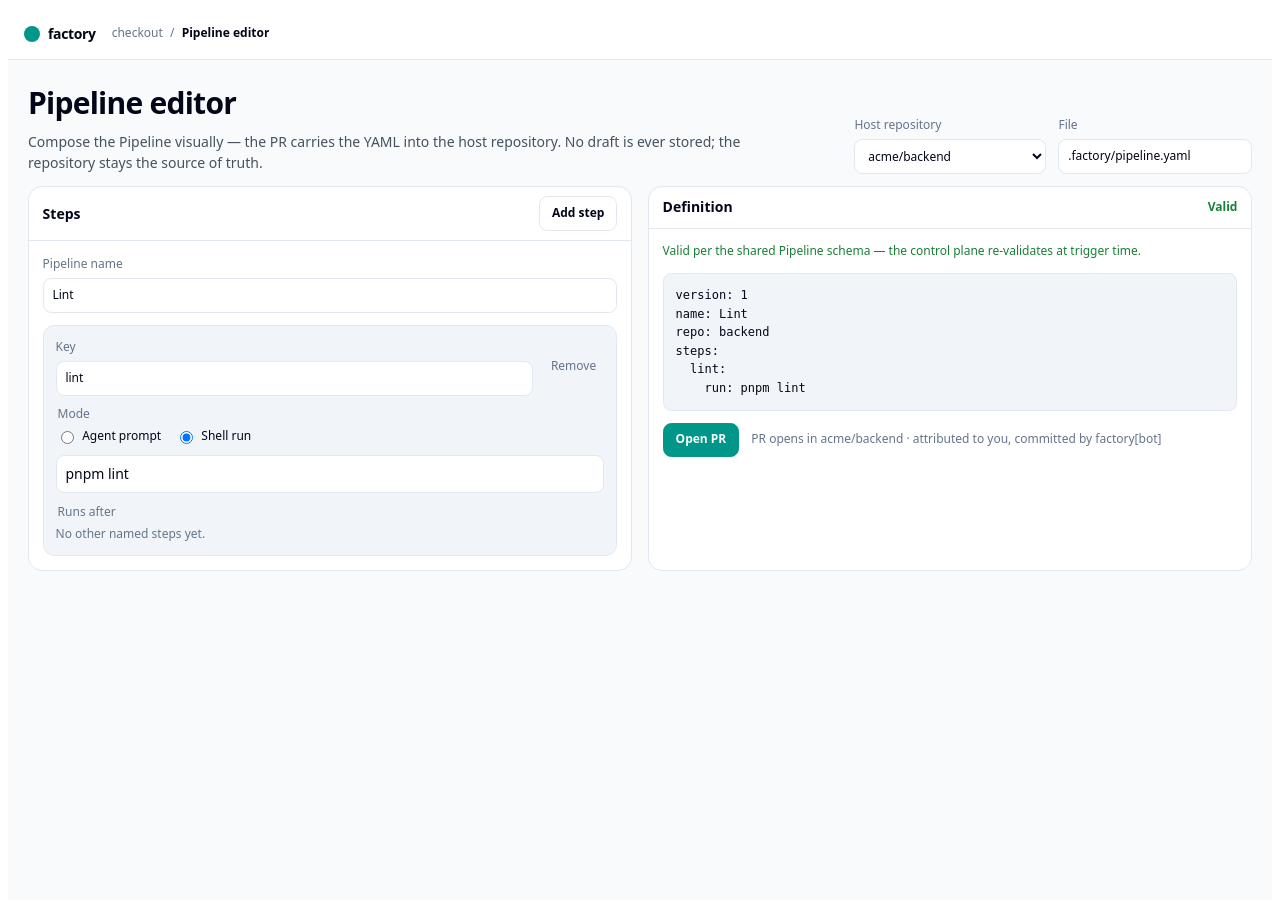
PipelineEditor › gives immediate validation feedback from the shared schema while the user composes
Expected: the dropdown labelled "Host repository" is shown, left=854, top=140, right=1046, bottom=174
Step 1. Click the button "Add step" → click(578, 214), box left=539, top=196, right=618, bottom=231
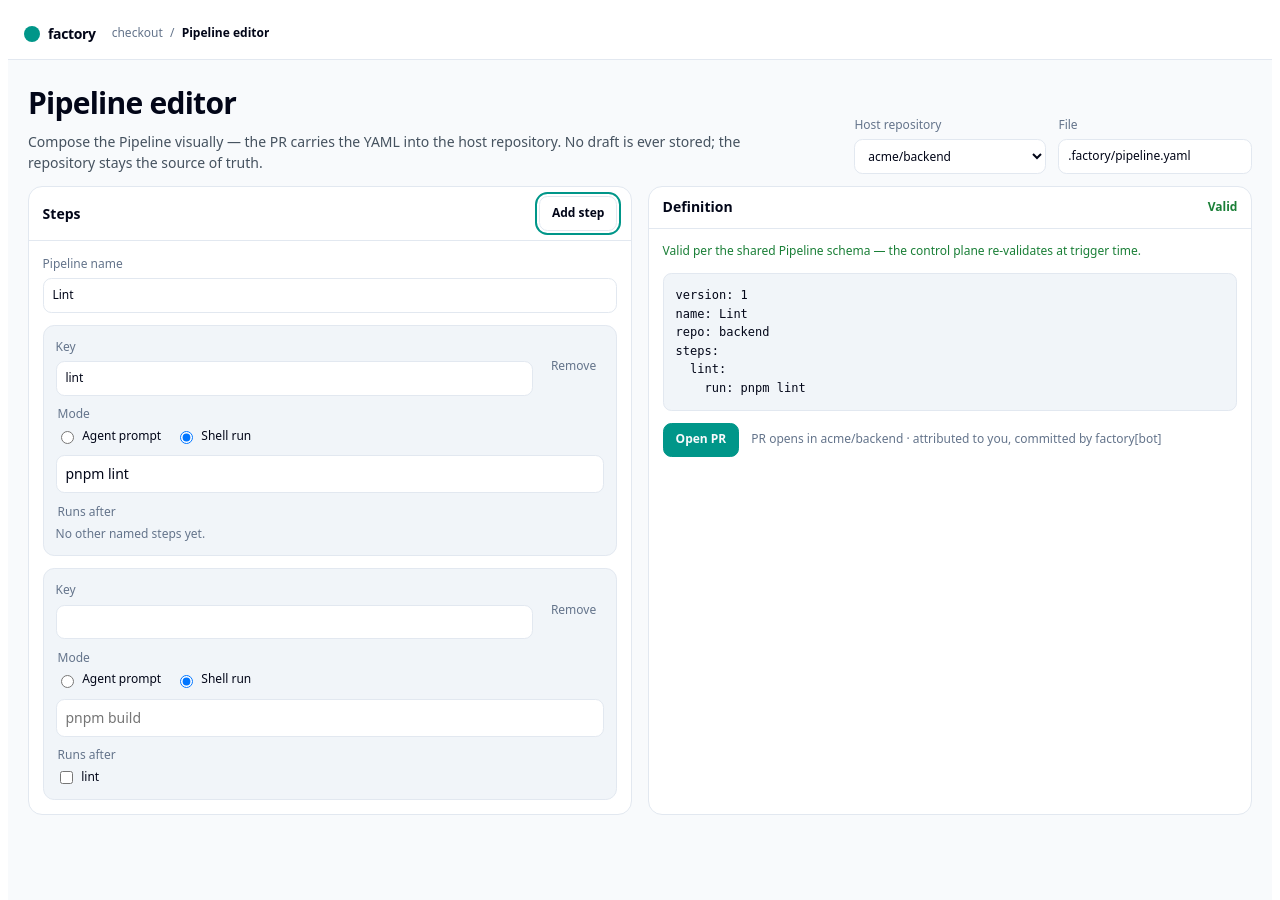
Step 2. Type "test" into the field named "step 2 key" → (294, 622), box left=56, top=605, right=533, bottom=639
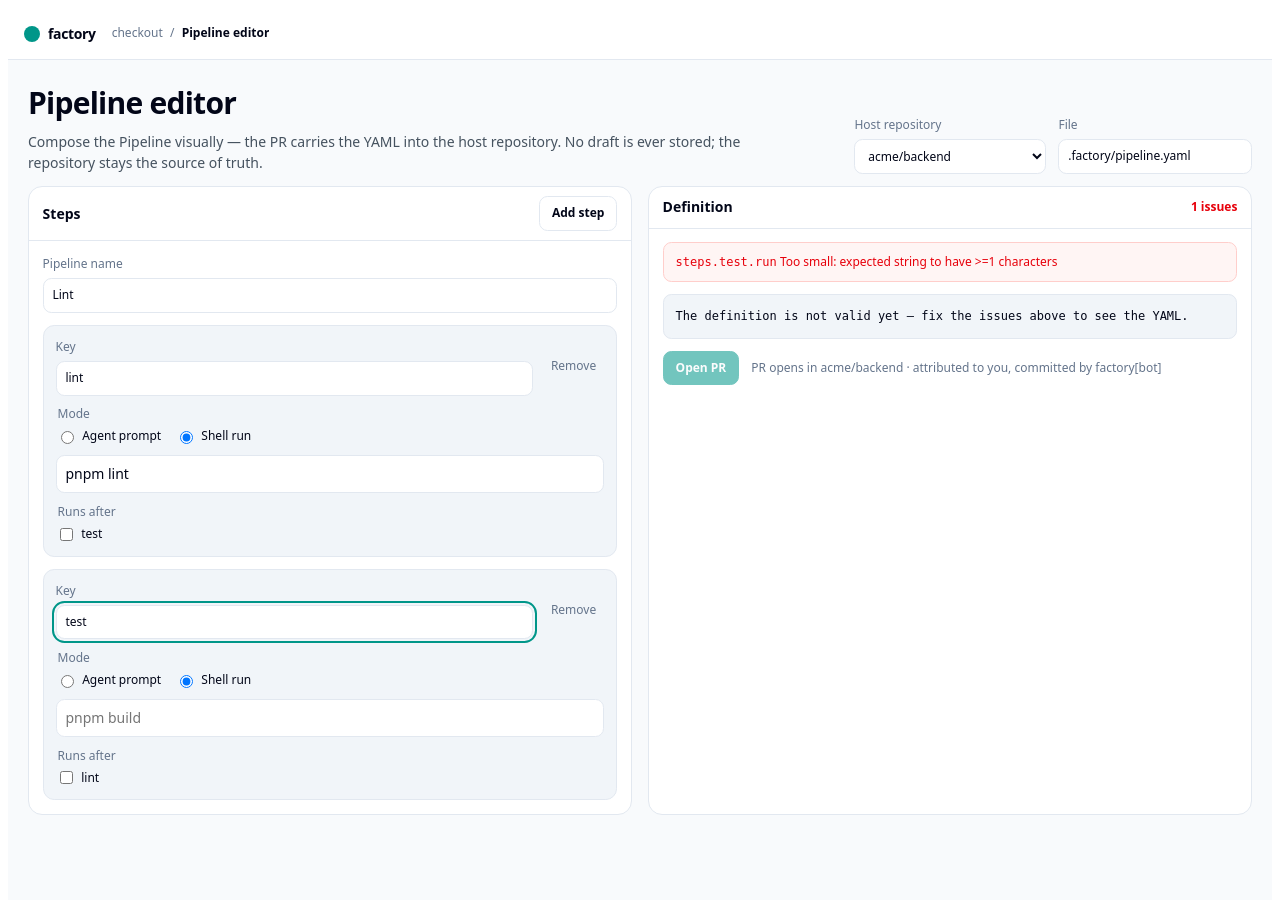
Step 3. Type "pnpm test" into the field named "step 2 run" → (330, 718), box left=56, top=699, right=604, bottom=737
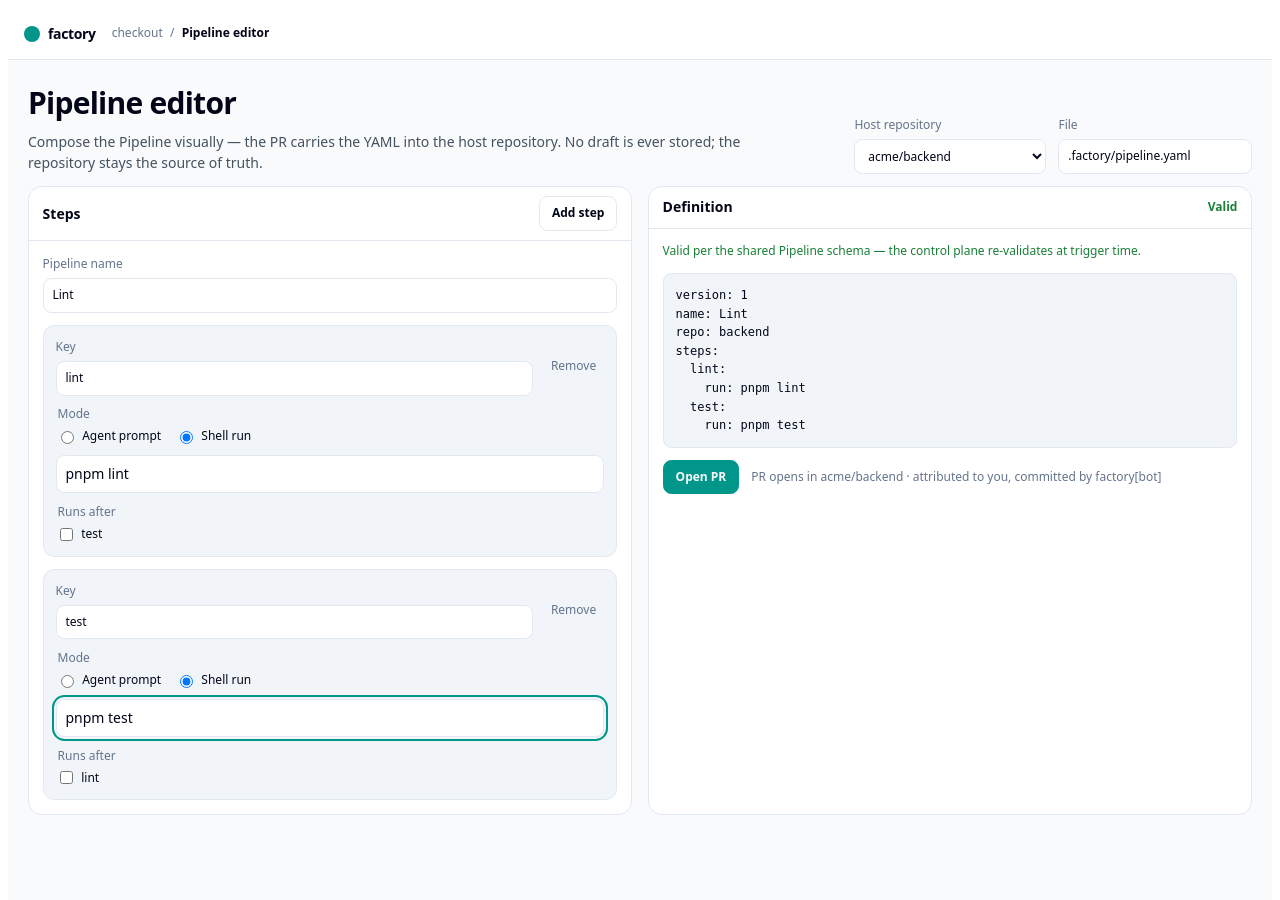
Step 4. Click the checkbox labelled "lint" → click(66, 778), box left=60, top=771, right=73, bottom=784
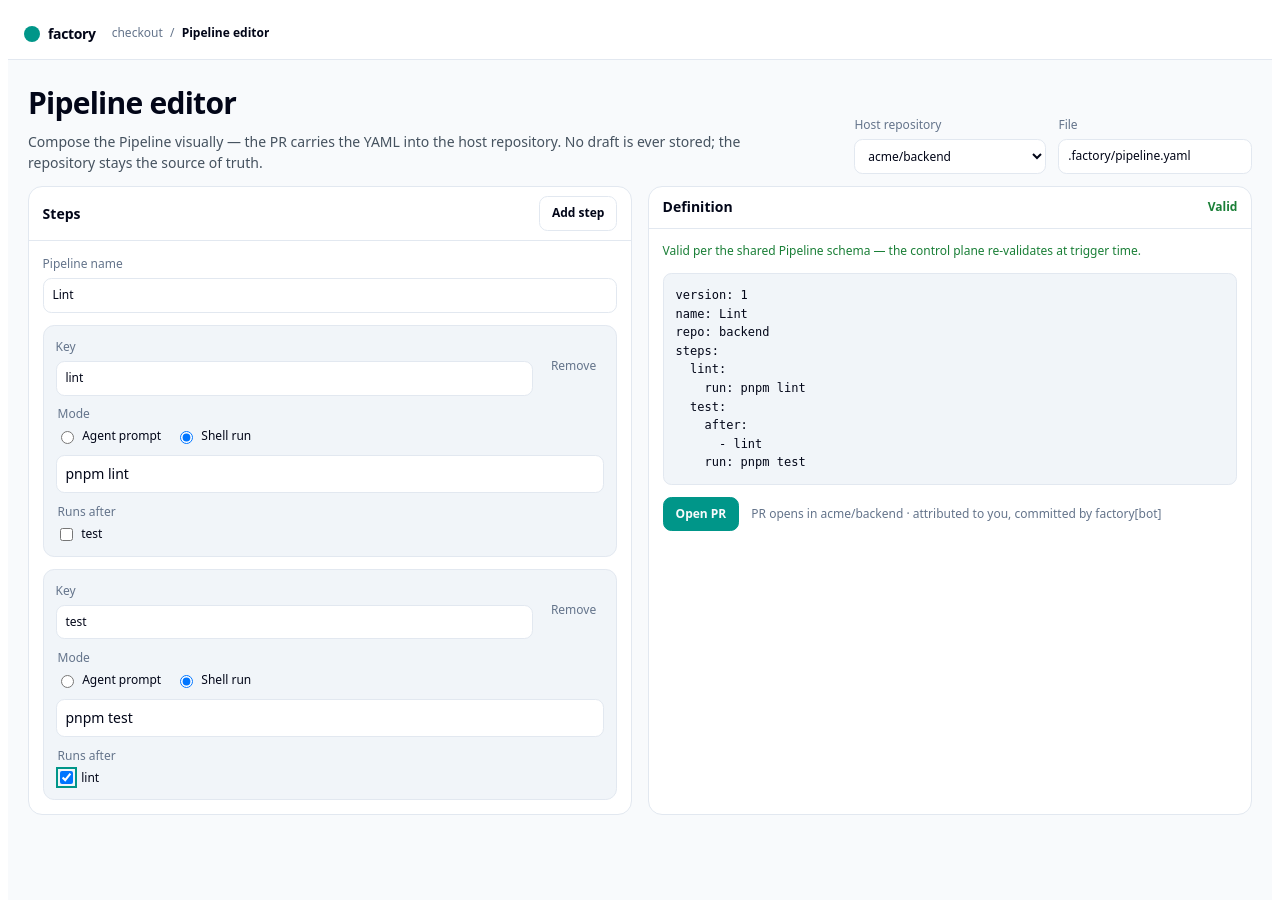
Expected: the text "Valid" is shown, left=1208, top=198, right=1237, bottom=217
Expected: the text with test id "yaml-preview" shows "run: pnpm test", left=676, top=288, right=806, bottom=469
Expected: the text with test id "yaml-preview" shows "after:", left=676, top=288, right=806, bottom=469
Step 5. Clear the field named "step 2 run" → (330, 718), box left=56, top=699, right=604, bottom=737
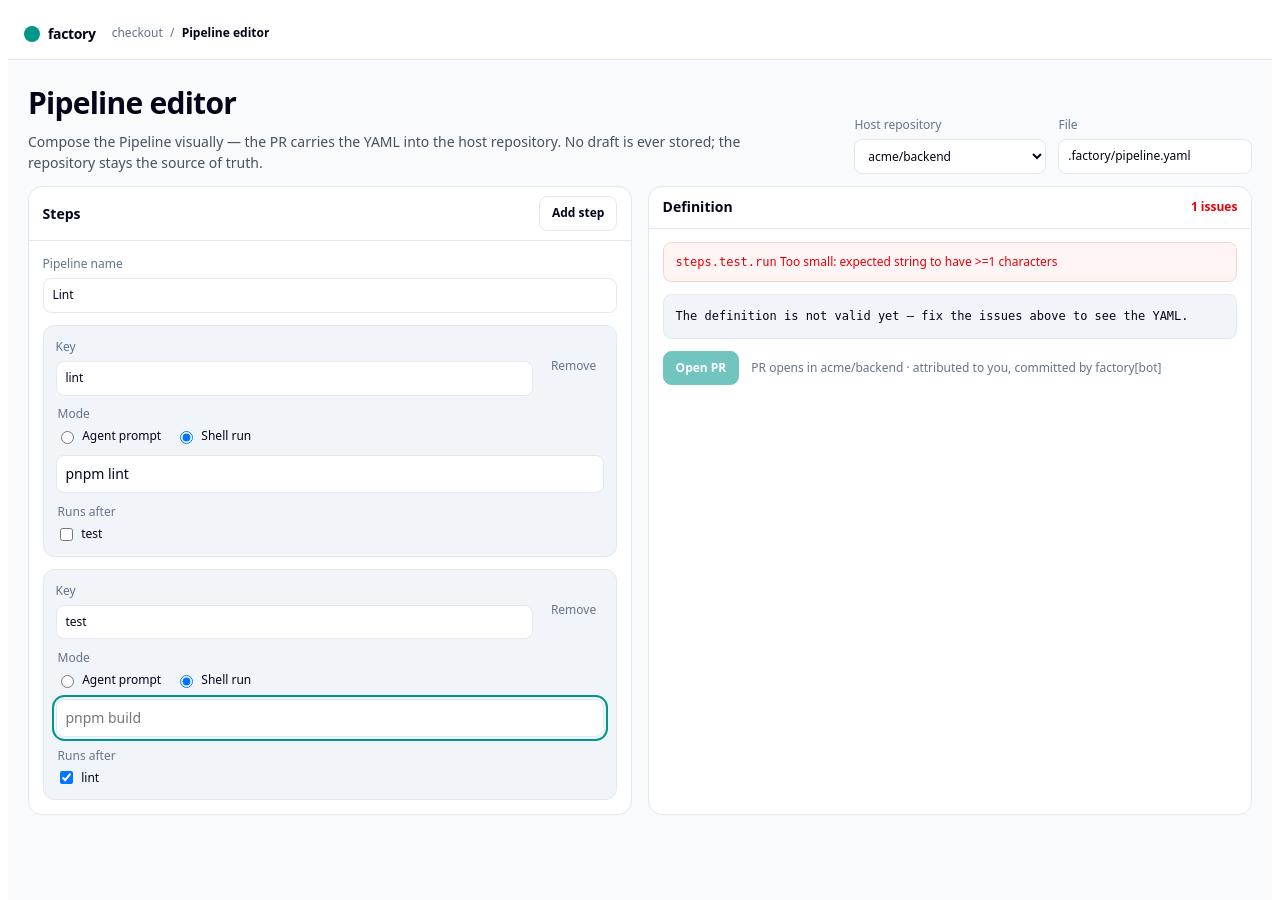
Expected: the list named "validation issues" reads "steps.test.run Too small: expected string to have >=1 characters", left=780, top=253, right=1058, bottom=270
Expected: the button "Open PR" is disabled, left=663, top=351, right=739, bottom=385
